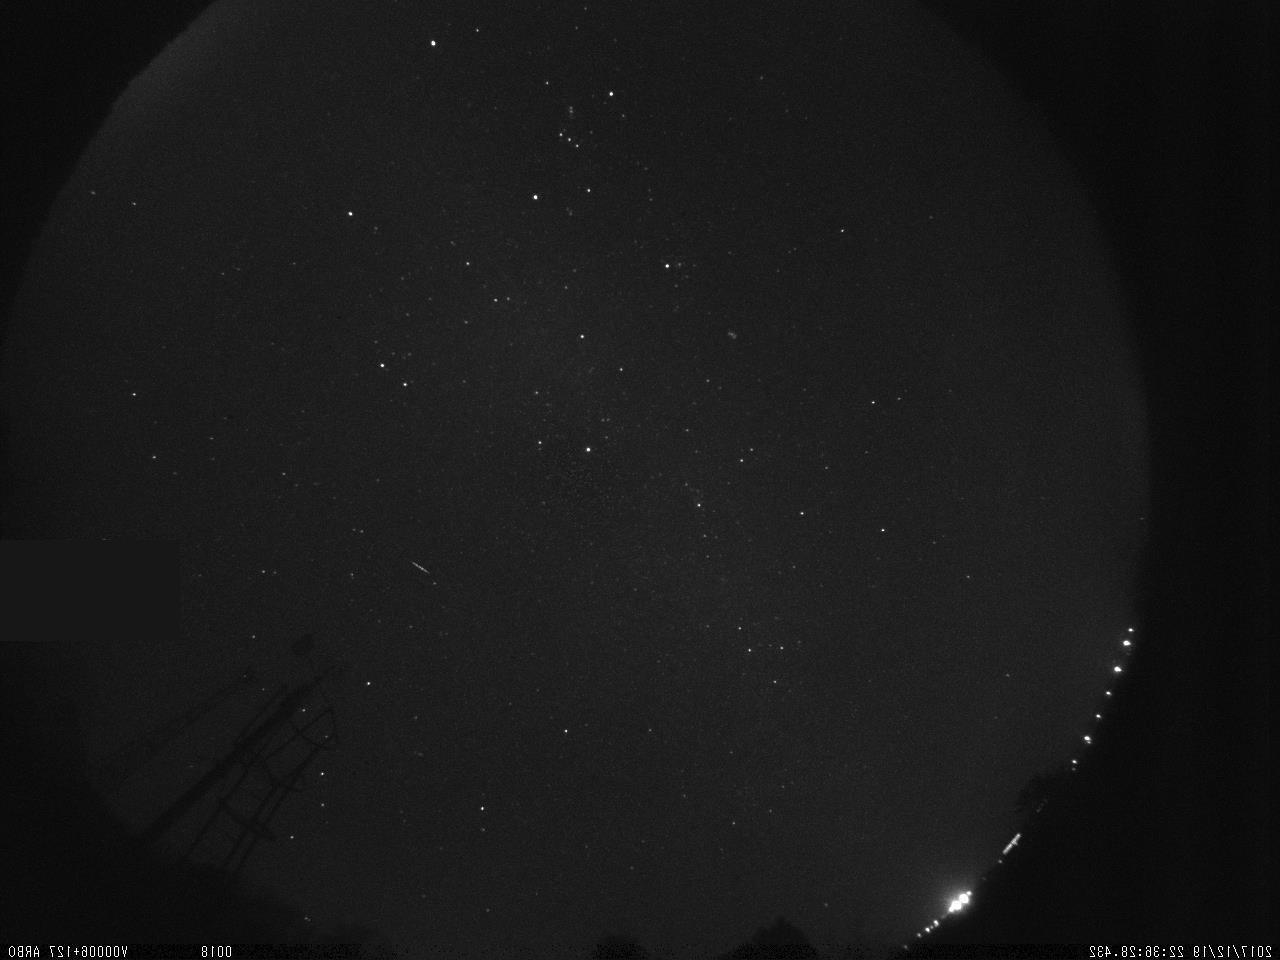meteor: (405, 553, 443, 585)
